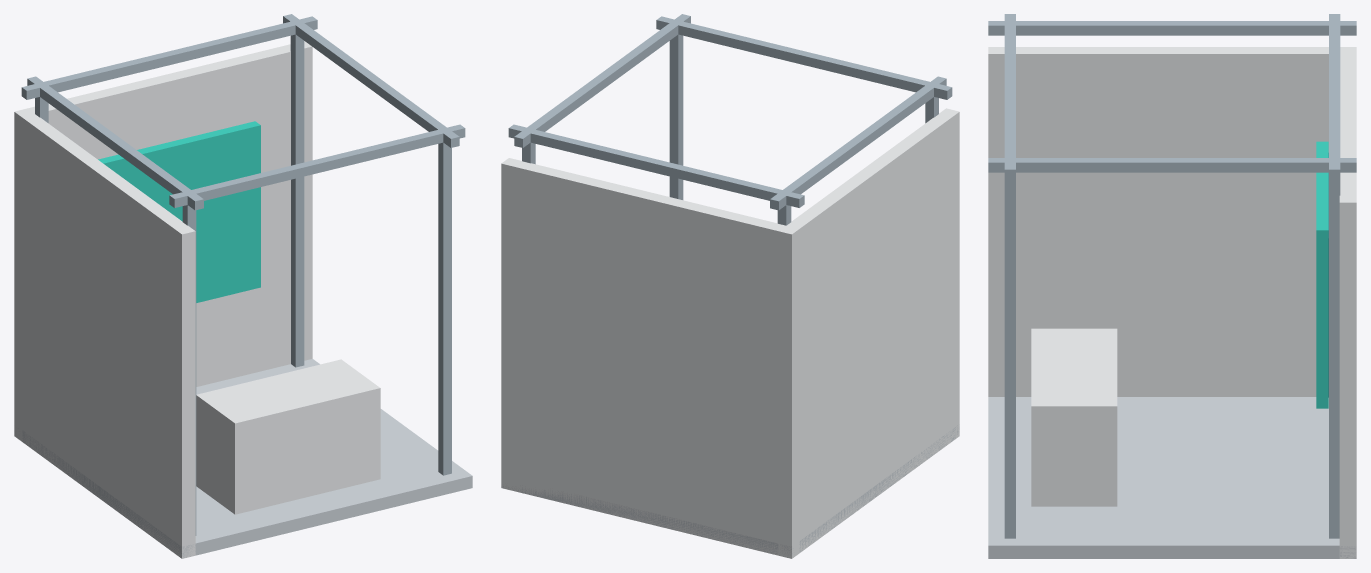
3 renders of one model, left to right at view 1: azimuth 30°, elevation 25°; view 2: azimuth 150°, elevation 25°; view 3: azimuth 270°, elevation 25°, orthographic. The views are drawn at different scales.
Parts seen in each view (by area): view 1: Exhibition Booth Concept; view 2: Exhibition Booth Concept; view 3: Exhibition Booth Concept.
Part boxes in pixels (left/top/right/bottom): Exhibition Booth Concept: left=14, top=14, right=472, bottom=558; Exhibition Booth Concept: left=501, top=14, right=959, bottom=558; Exhibition Booth Concept: left=988, top=14, right=1356, bottom=558.
Size of the model in its own units: 3 by 3.49 by 3.
